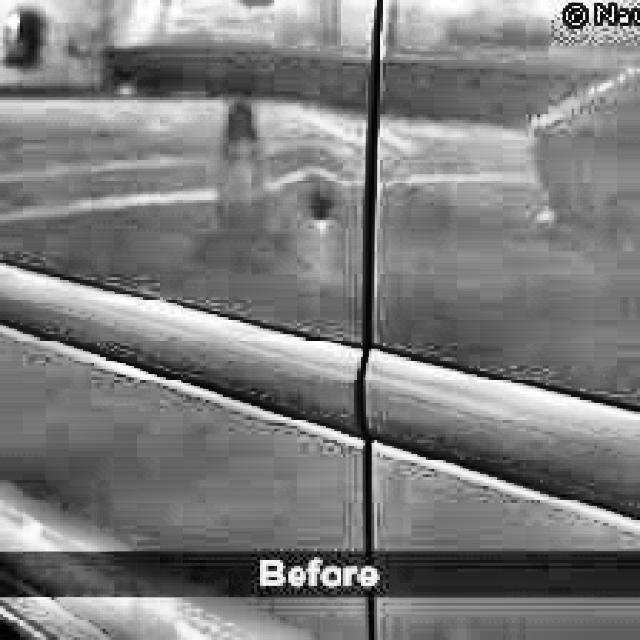door_dent: (294, 192, 349, 245)
